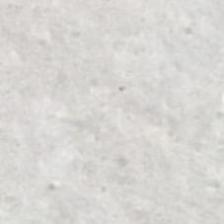Non_Crack: (14, 27, 197, 172)
